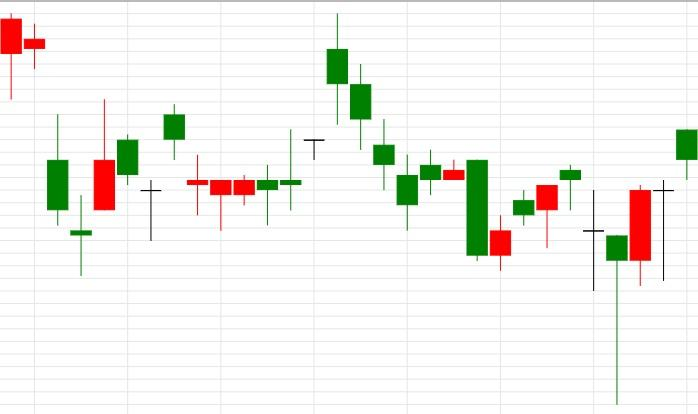hammer_rise: (559, 164, 629, 404), (163, 103, 233, 231)
three_black_crows_fall: (209, 13, 396, 231)
